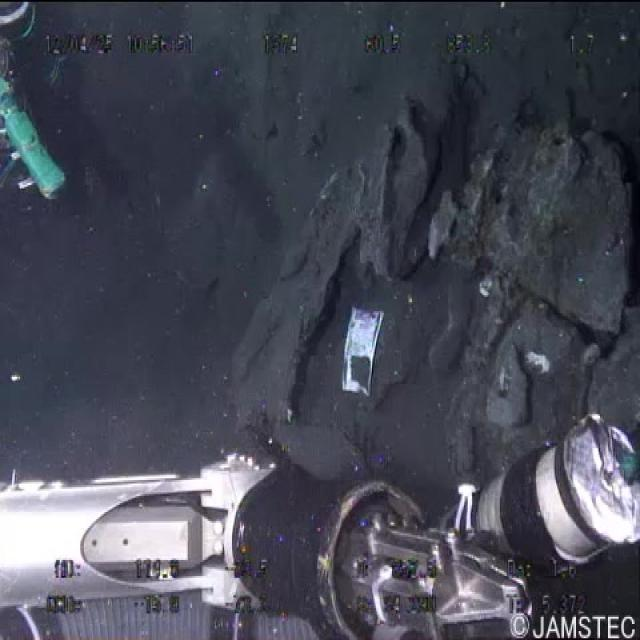plastic: (336, 299, 387, 407)
